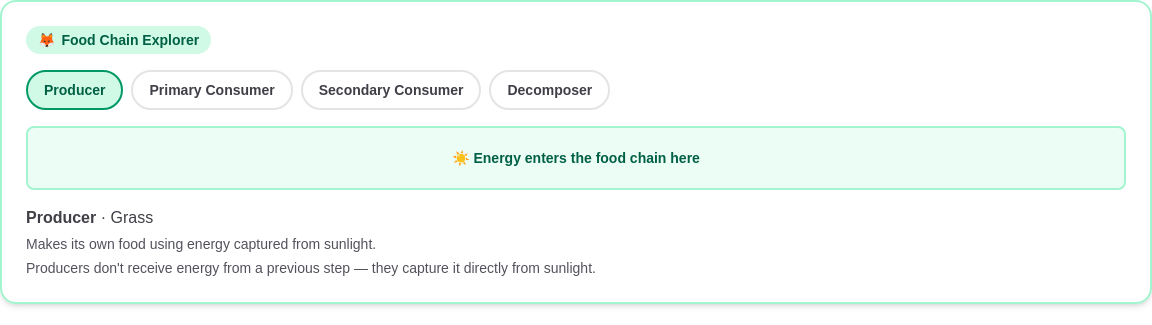
Test: FoodChainExplorer › clicking Decomposer shows its role, example, and energy note
Click the button "Decomposer" at (550, 90), box [490, 70, 610, 110]
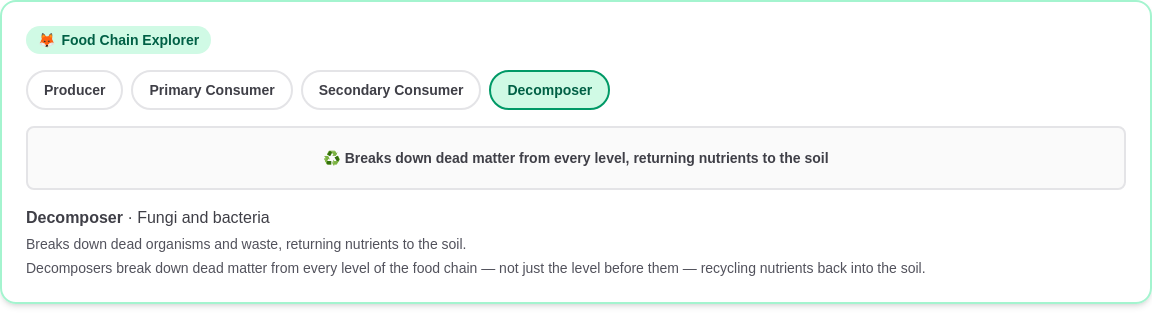
Check: the text with test id "level-name" reads "Decomposer", box [26, 209, 123, 226]
Check: the text with test id "level-example" reads "Fungi and bacteria", box [137, 209, 270, 226]
Check: the text with test id "level-role" reads "Breaks down dead organisms and waste, returning nutrients to the soil.", box [26, 236, 466, 252]
